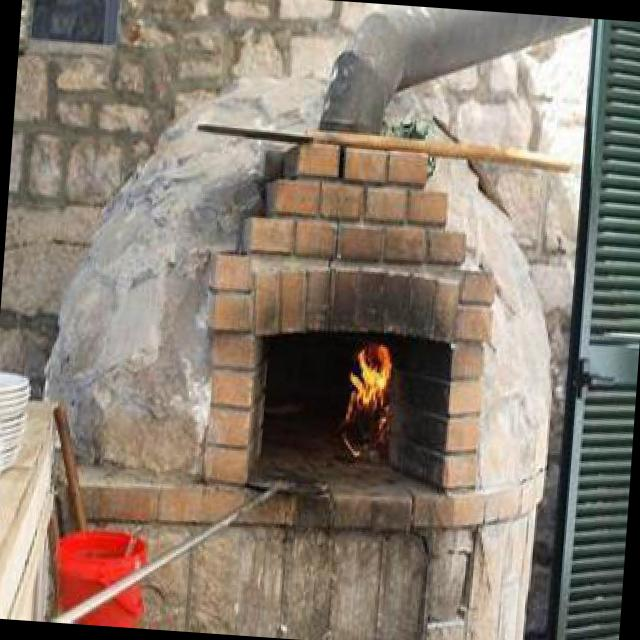Fire: (342, 334, 395, 441)
